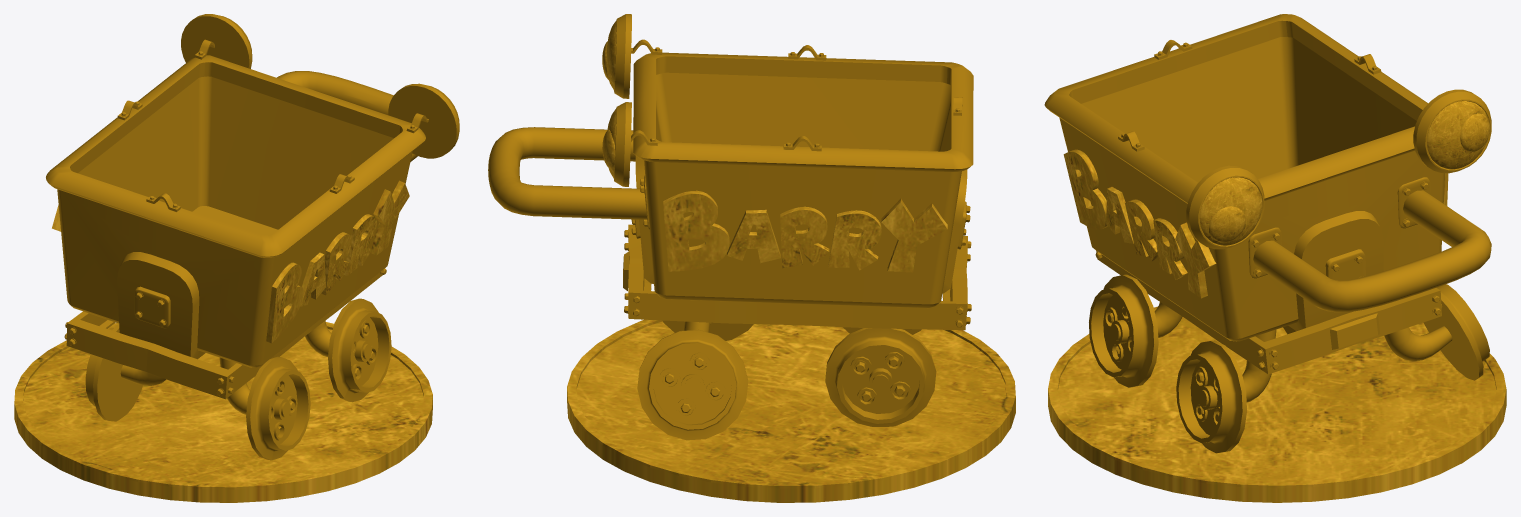
Rendered from poppy_playtime__trophy_-_barry_the_cart.glb.
3 views of the same model, side by side, from view 1: azimuth 30°, elevation 25°; view 2: azimuth 150°, elevation 25°; view 3: azimuth 270°, elevation 25° (orthographic). The views are drawn at different scales.
Visible parts, largest first — view 1: trophy_barry; view 2: trophy_barry; view 3: trophy_barry.
Part boxes in pixels (left/top/right/bottom): trophy_barry: left=14, top=14, right=459, bottom=502; trophy_barry: left=488, top=14, right=1015, bottom=502; trophy_barry: left=1044, top=14, right=1506, bottom=502.
Bounding box in the file's own units: 0.6604 × 0.4822 × 0.572.
2 materials, 2 textured.
